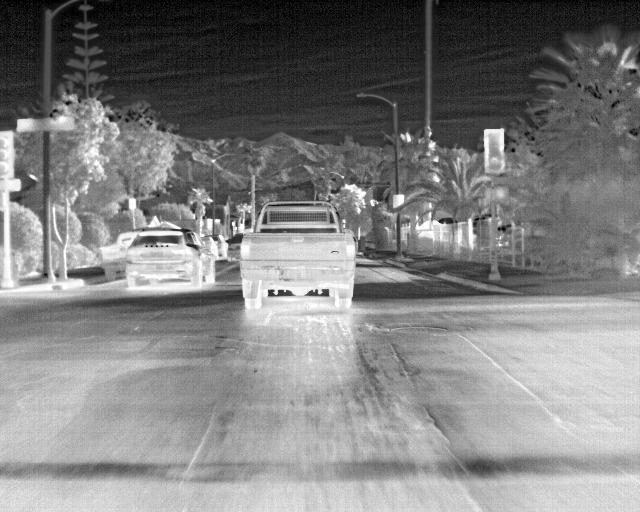car: (239, 200, 357, 312), (123, 228, 217, 289), (99, 230, 126, 281), (214, 235, 230, 261), (201, 236, 217, 258)
